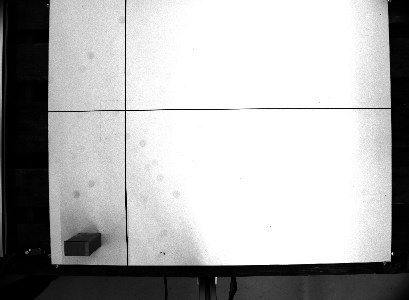b1: (61, 230, 104, 257)
